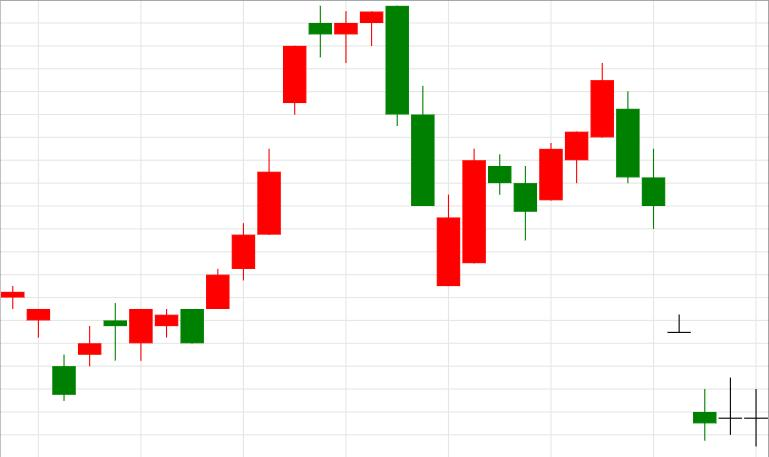bearish_engulfing_fall: (206, 6, 409, 309)
